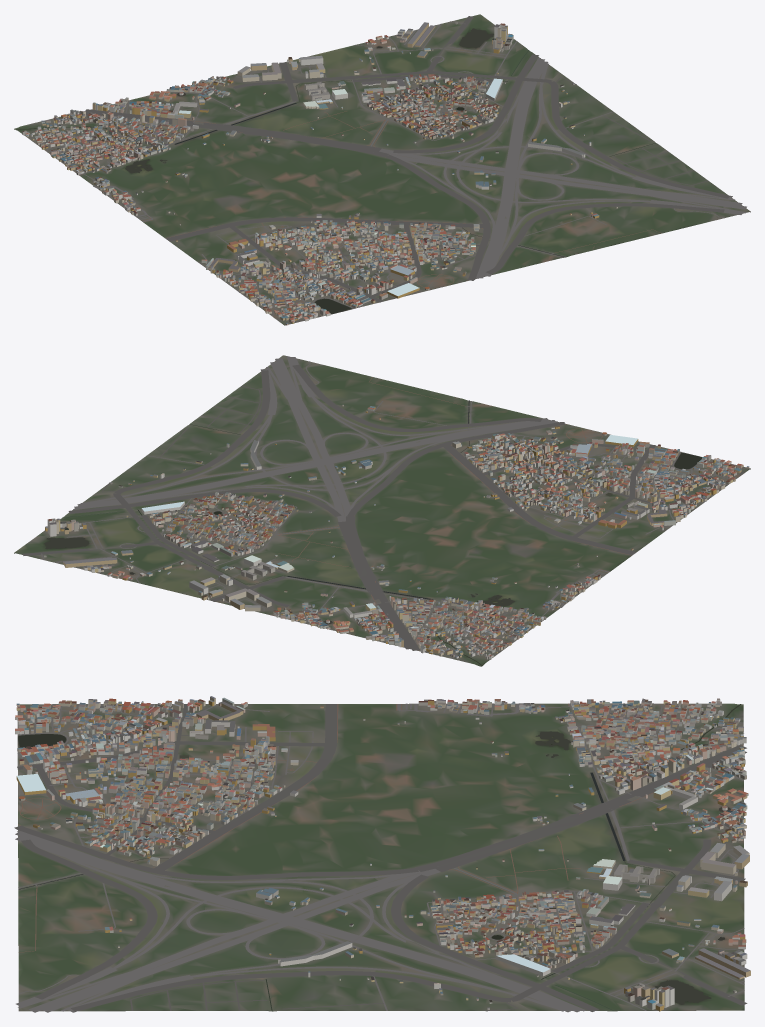
3 renders of one model, top to bottom at view 1: azimuth 30°, elevation 25°; view 2: azimuth 150°, elevation 25°; view 3: azimuth 270°, elevation 25°, orthographic. The views are drawn at different scales.
Parts seen in each view (by area): view 1: ground, buildings, roads, water; view 2: ground, buildings, roads, water; view 3: ground, buildings, roads, water.
Boxes of the visible parts, left/top/right/bottom form: ground: left=14, top=14, right=750, bottom=325; buildings: left=22, top=22, right=617, bottom=325; roads: left=44, top=16, right=746, bottom=323; water: left=15, top=28, right=655, bottom=313; ground: left=14, top=355, right=750, bottom=666; buildings: left=44, top=404, right=749, bottom=659; roads: left=22, top=356, right=743, bottom=658; water: left=44, top=400, right=702, bottom=665; ground: left=17, top=703, right=744, bottom=1011; buildings: left=15, top=696, right=750, bottom=1011; roads: left=14, top=703, right=747, bottom=1012; water: left=18, top=704, right=741, bottom=1011.
Bounding box in the file's own units: 1418 × 41.86 × 1423.
